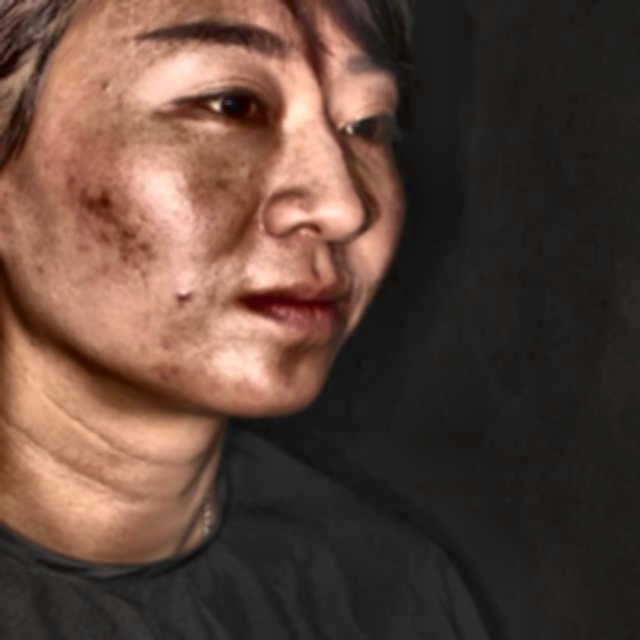comedone: (81, 185, 114, 221), (151, 363, 184, 387), (173, 282, 195, 305)
